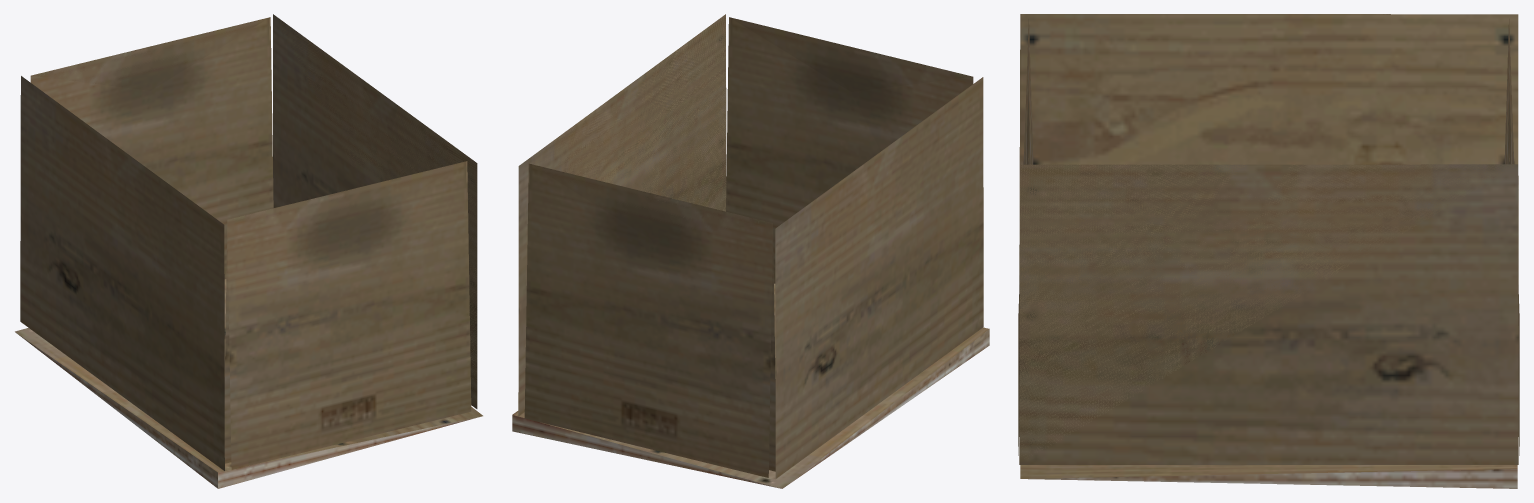
Rendered from com_wine_crate_open_lod3.glb.
The picture shows the model from 3 angles, left to right: view 1: azimuth 30°, elevation 25°; view 2: azimuth 150°, elevation 25°; view 3: azimuth 270°, elevation 25°; orthographic projection. The views are drawn at different scales.
Visible parts, largest first — view 1: surf0; view 2: surf0; view 3: surf0.
Part boxes in pixels (x1,y1,x2,y2): surf0: (15, 14, 482, 488); surf0: (512, 14, 989, 488); surf0: (1018, 14, 1519, 488).
Size of the model in its own units: 17.91 by 17.01 by 24.
